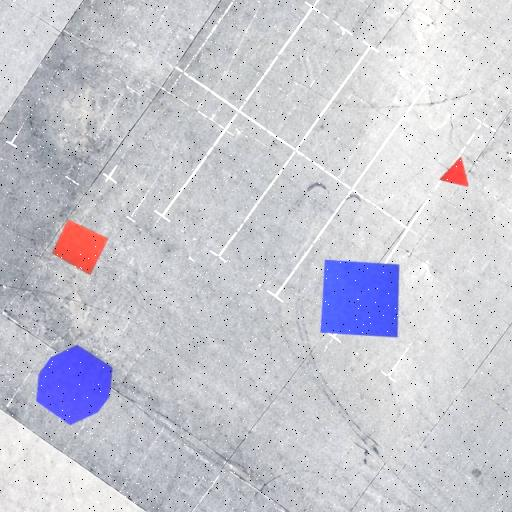BLUE_SQUARE: (320, 260, 400, 338)
RED_SQUARE: (51, 219, 109, 275)
